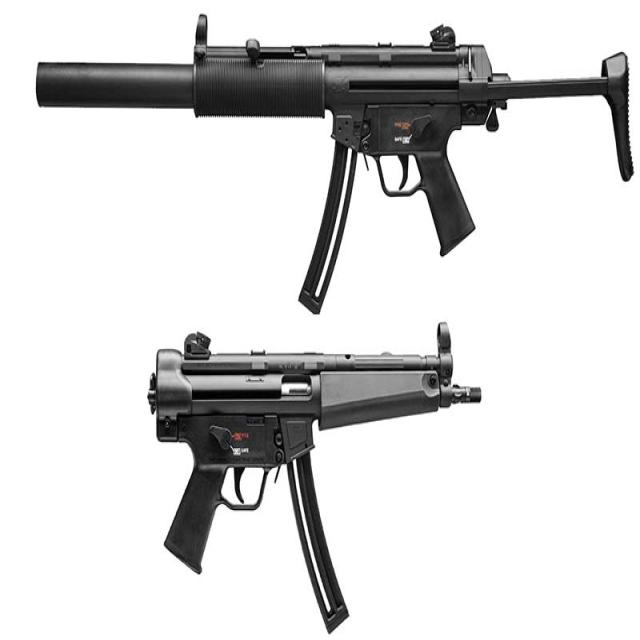SMG: (35, 14, 634, 318), (147, 323, 484, 634)
